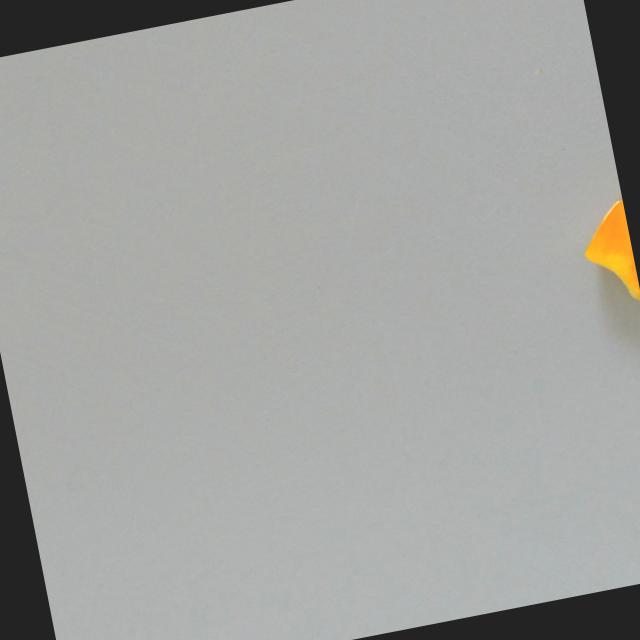dañado: (566, 193, 640, 315)
